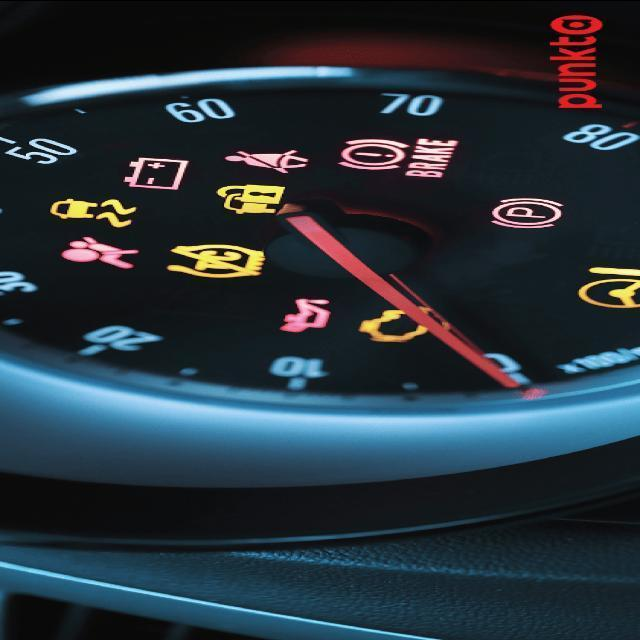Electronic Power Steering: (576, 258, 640, 311)
Seat Belt: (225, 149, 310, 175)
